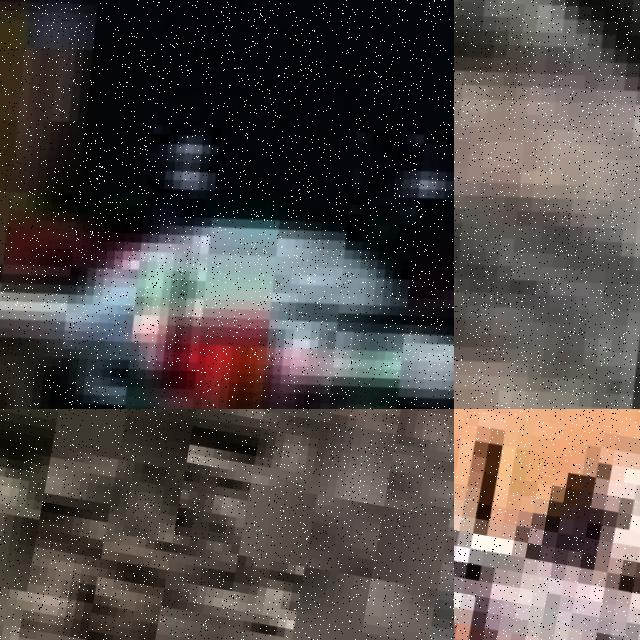drone: (0, 0, 454, 409), (454, 0, 640, 409)
